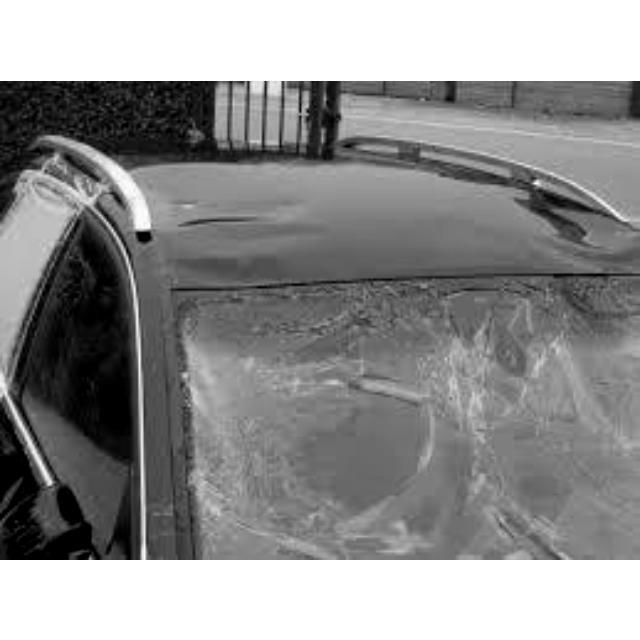Front-windscreen-damage: (125, 278, 638, 557)
roof-dent: (124, 164, 635, 290)
